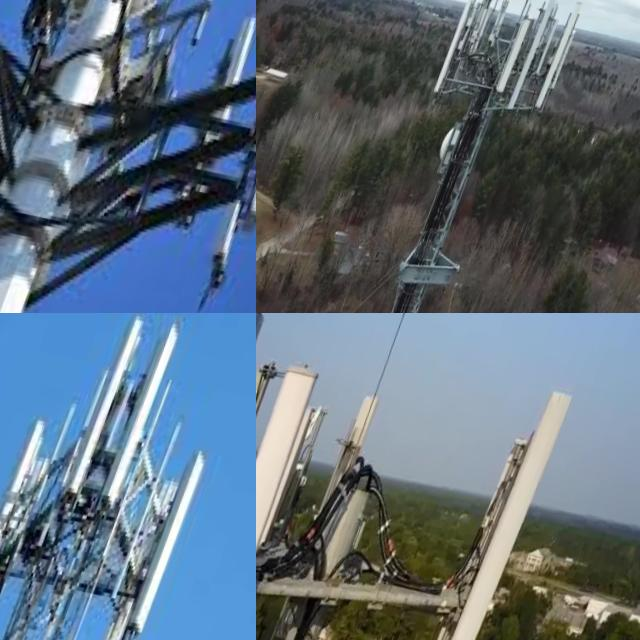GSM Antenna: (411, 384, 586, 640), (256, 362, 336, 640), (92, 313, 189, 533), (119, 439, 224, 640), (60, 319, 153, 510), (89, 476, 185, 640), (0, 411, 60, 602), (508, 0, 564, 131), (201, 16, 256, 139), (537, 4, 589, 123), (436, 0, 491, 100), (205, 210, 256, 311), (495, 18, 541, 108), (483, 0, 525, 69), (235, 138, 256, 248)
Microwave Antenna: (434, 121, 480, 187)
